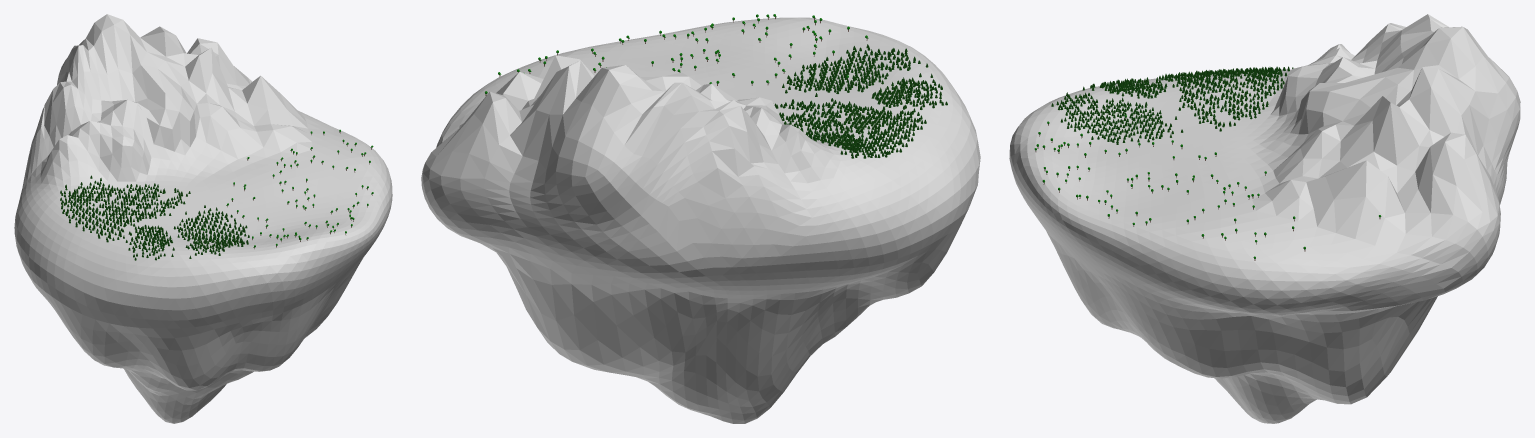
Rendered from Island v1.fbx.
3 views of the same model, side by side, from view 1: azimuth 30°, elevation 25°; view 2: azimuth 150°, elevation 25°; view 3: azimuth 270°, elevation 25° (orthographic). The views are drawn at different scales.
Visible parts, largest first — view 1: Island; view 2: Island; view 3: Island.
Boxes of the visible parts, x1,y1,x2,y2 form: Island: [14, 14, 392, 423]; Island: [421, 17, 980, 423]; Island: [1009, 14, 1520, 423].
Bounding box in the file's own units: 554284 × 503540 × 581803.
